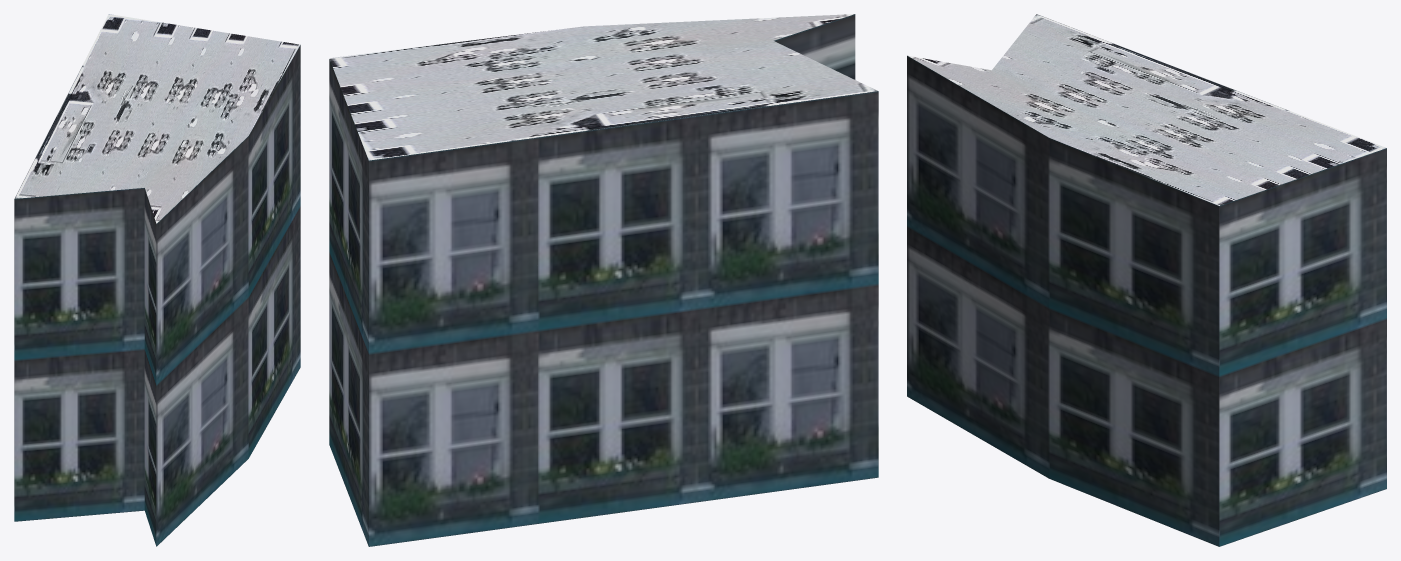
The model's file is ResTex__4329.fbx.
3 renders of one model, left to right at view 1: azimuth 30°, elevation 25°; view 2: azimuth 150°, elevation 25°; view 3: azimuth 270°, elevation 25°, orthographic. The views are drawn at different scales.
Visible parts, largest first — view 1: CityEngineMaterial_11_m, CityEngineMaterial_8_m; view 2: CityEngineMaterial_11_m, CityEngineMaterial_8_m; view 3: CityEngineMaterial_11_m, CityEngineMaterial_8_m.
Part boxes in pixels (x1,y1,x2,y2): CityEngineMaterial_11_m: [14, 45, 300, 546]; CityEngineMaterial_8_m: [14, 14, 299, 223]; CityEngineMaterial_11_m: [329, 14, 878, 546]; CityEngineMaterial_8_m: [329, 14, 878, 160]; CityEngineMaterial_11_m: [907, 56, 1386, 546]; CityEngineMaterial_8_m: [907, 14, 1386, 205].
Bounding box in the file's own units: 7.25 × 6 × 7.65.
Materials: 2 (2 with a texture image).
